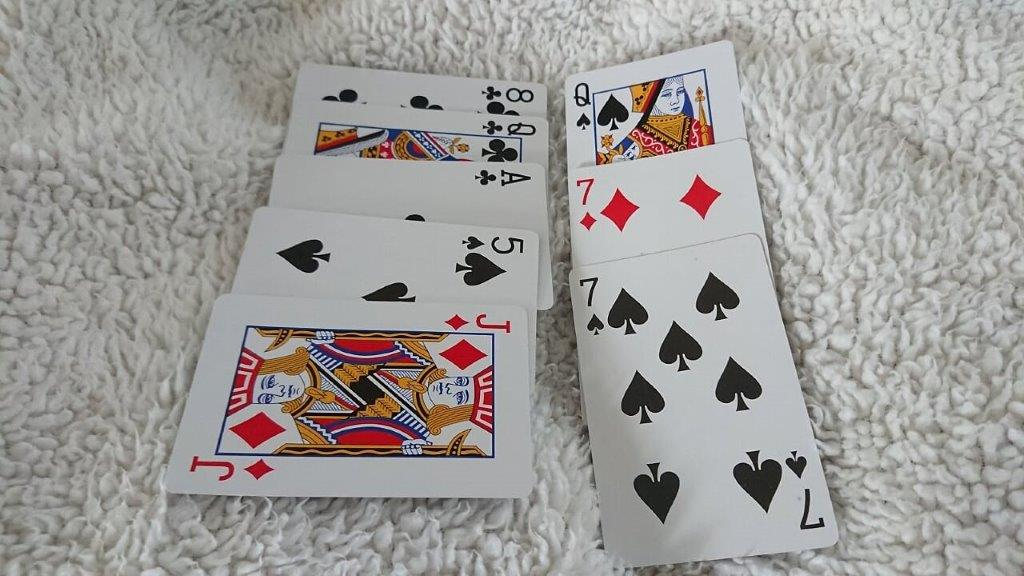7D: (572, 171, 605, 238)
7S: (570, 270, 617, 344)
QS: (567, 75, 600, 133)
